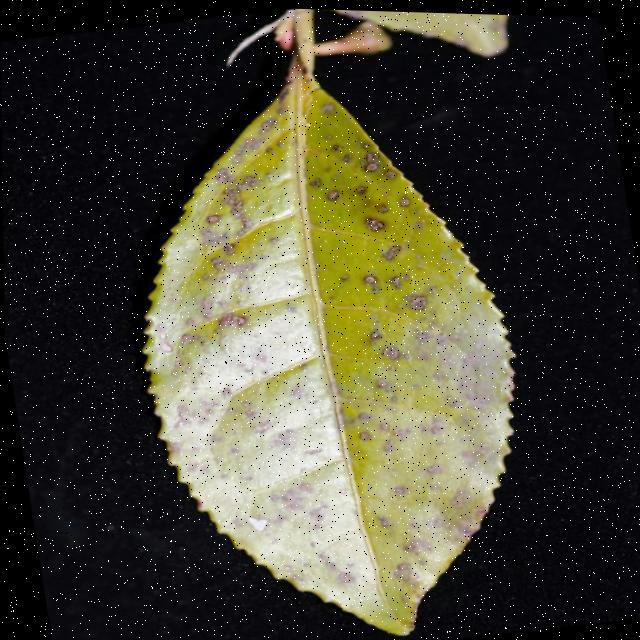Tea red rust: (106, 55, 531, 634)
